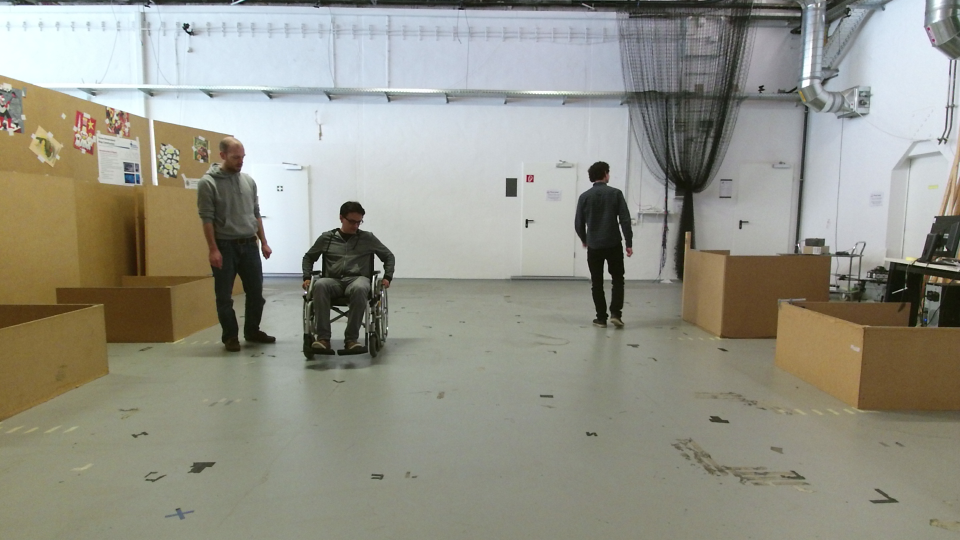wheelchair: (277, 194, 400, 368)
